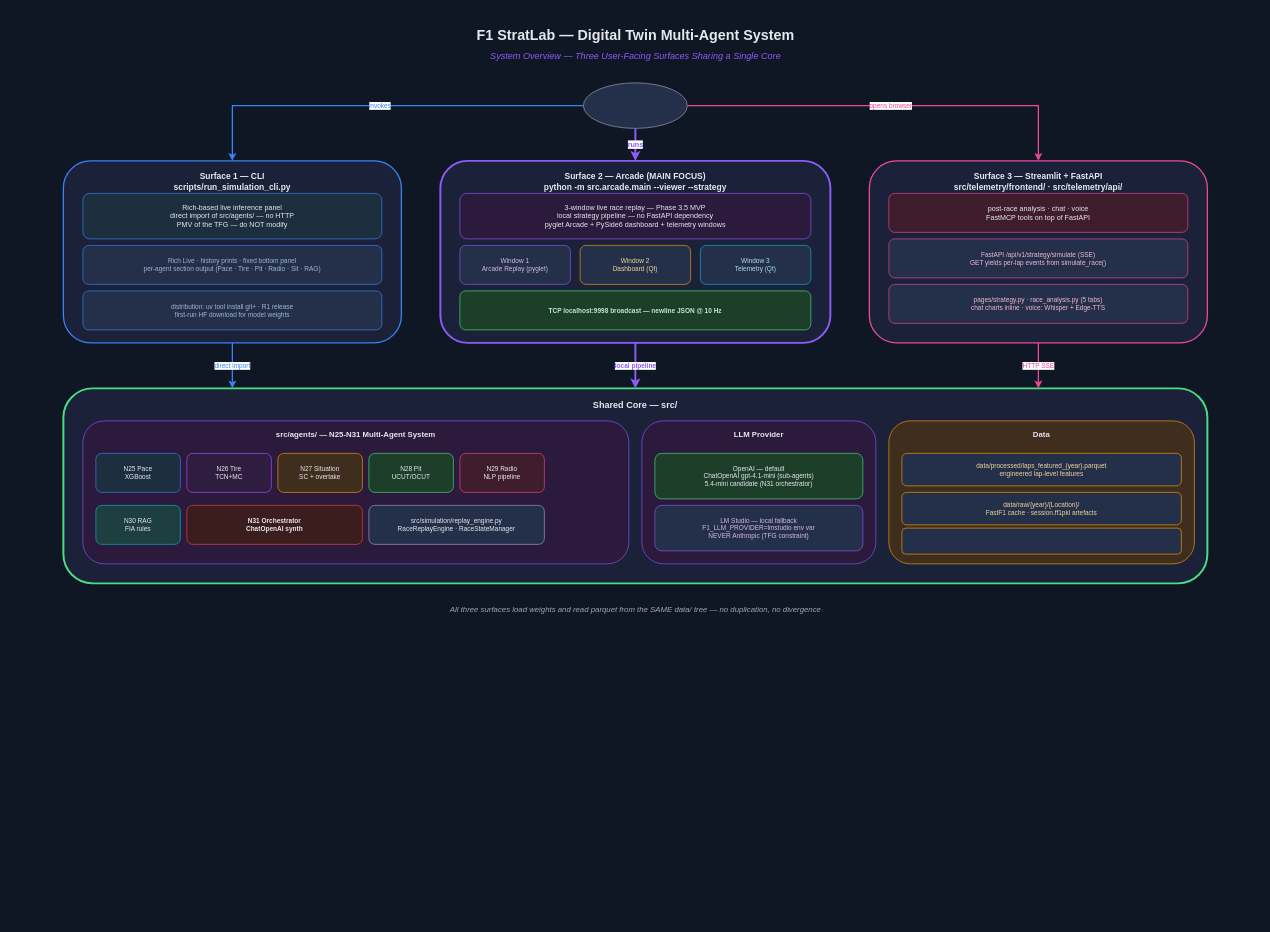
This 1270x932 diagram has some shape labels left out. Here are the shapes that lost their labels. From the top down, the centre of each, then its label:
(x=635, y=105): User (TFG defense, engineers)
(x=1041, y=540): data/models/— tire_degradation · pit_prediction · nlp · overtake · sc_prob
